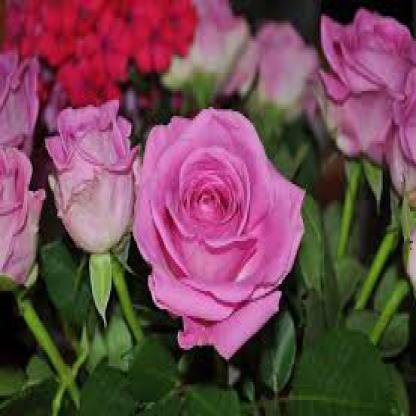Rose-Mawar: (1, 1, 307, 360), (322, 1, 416, 192)
